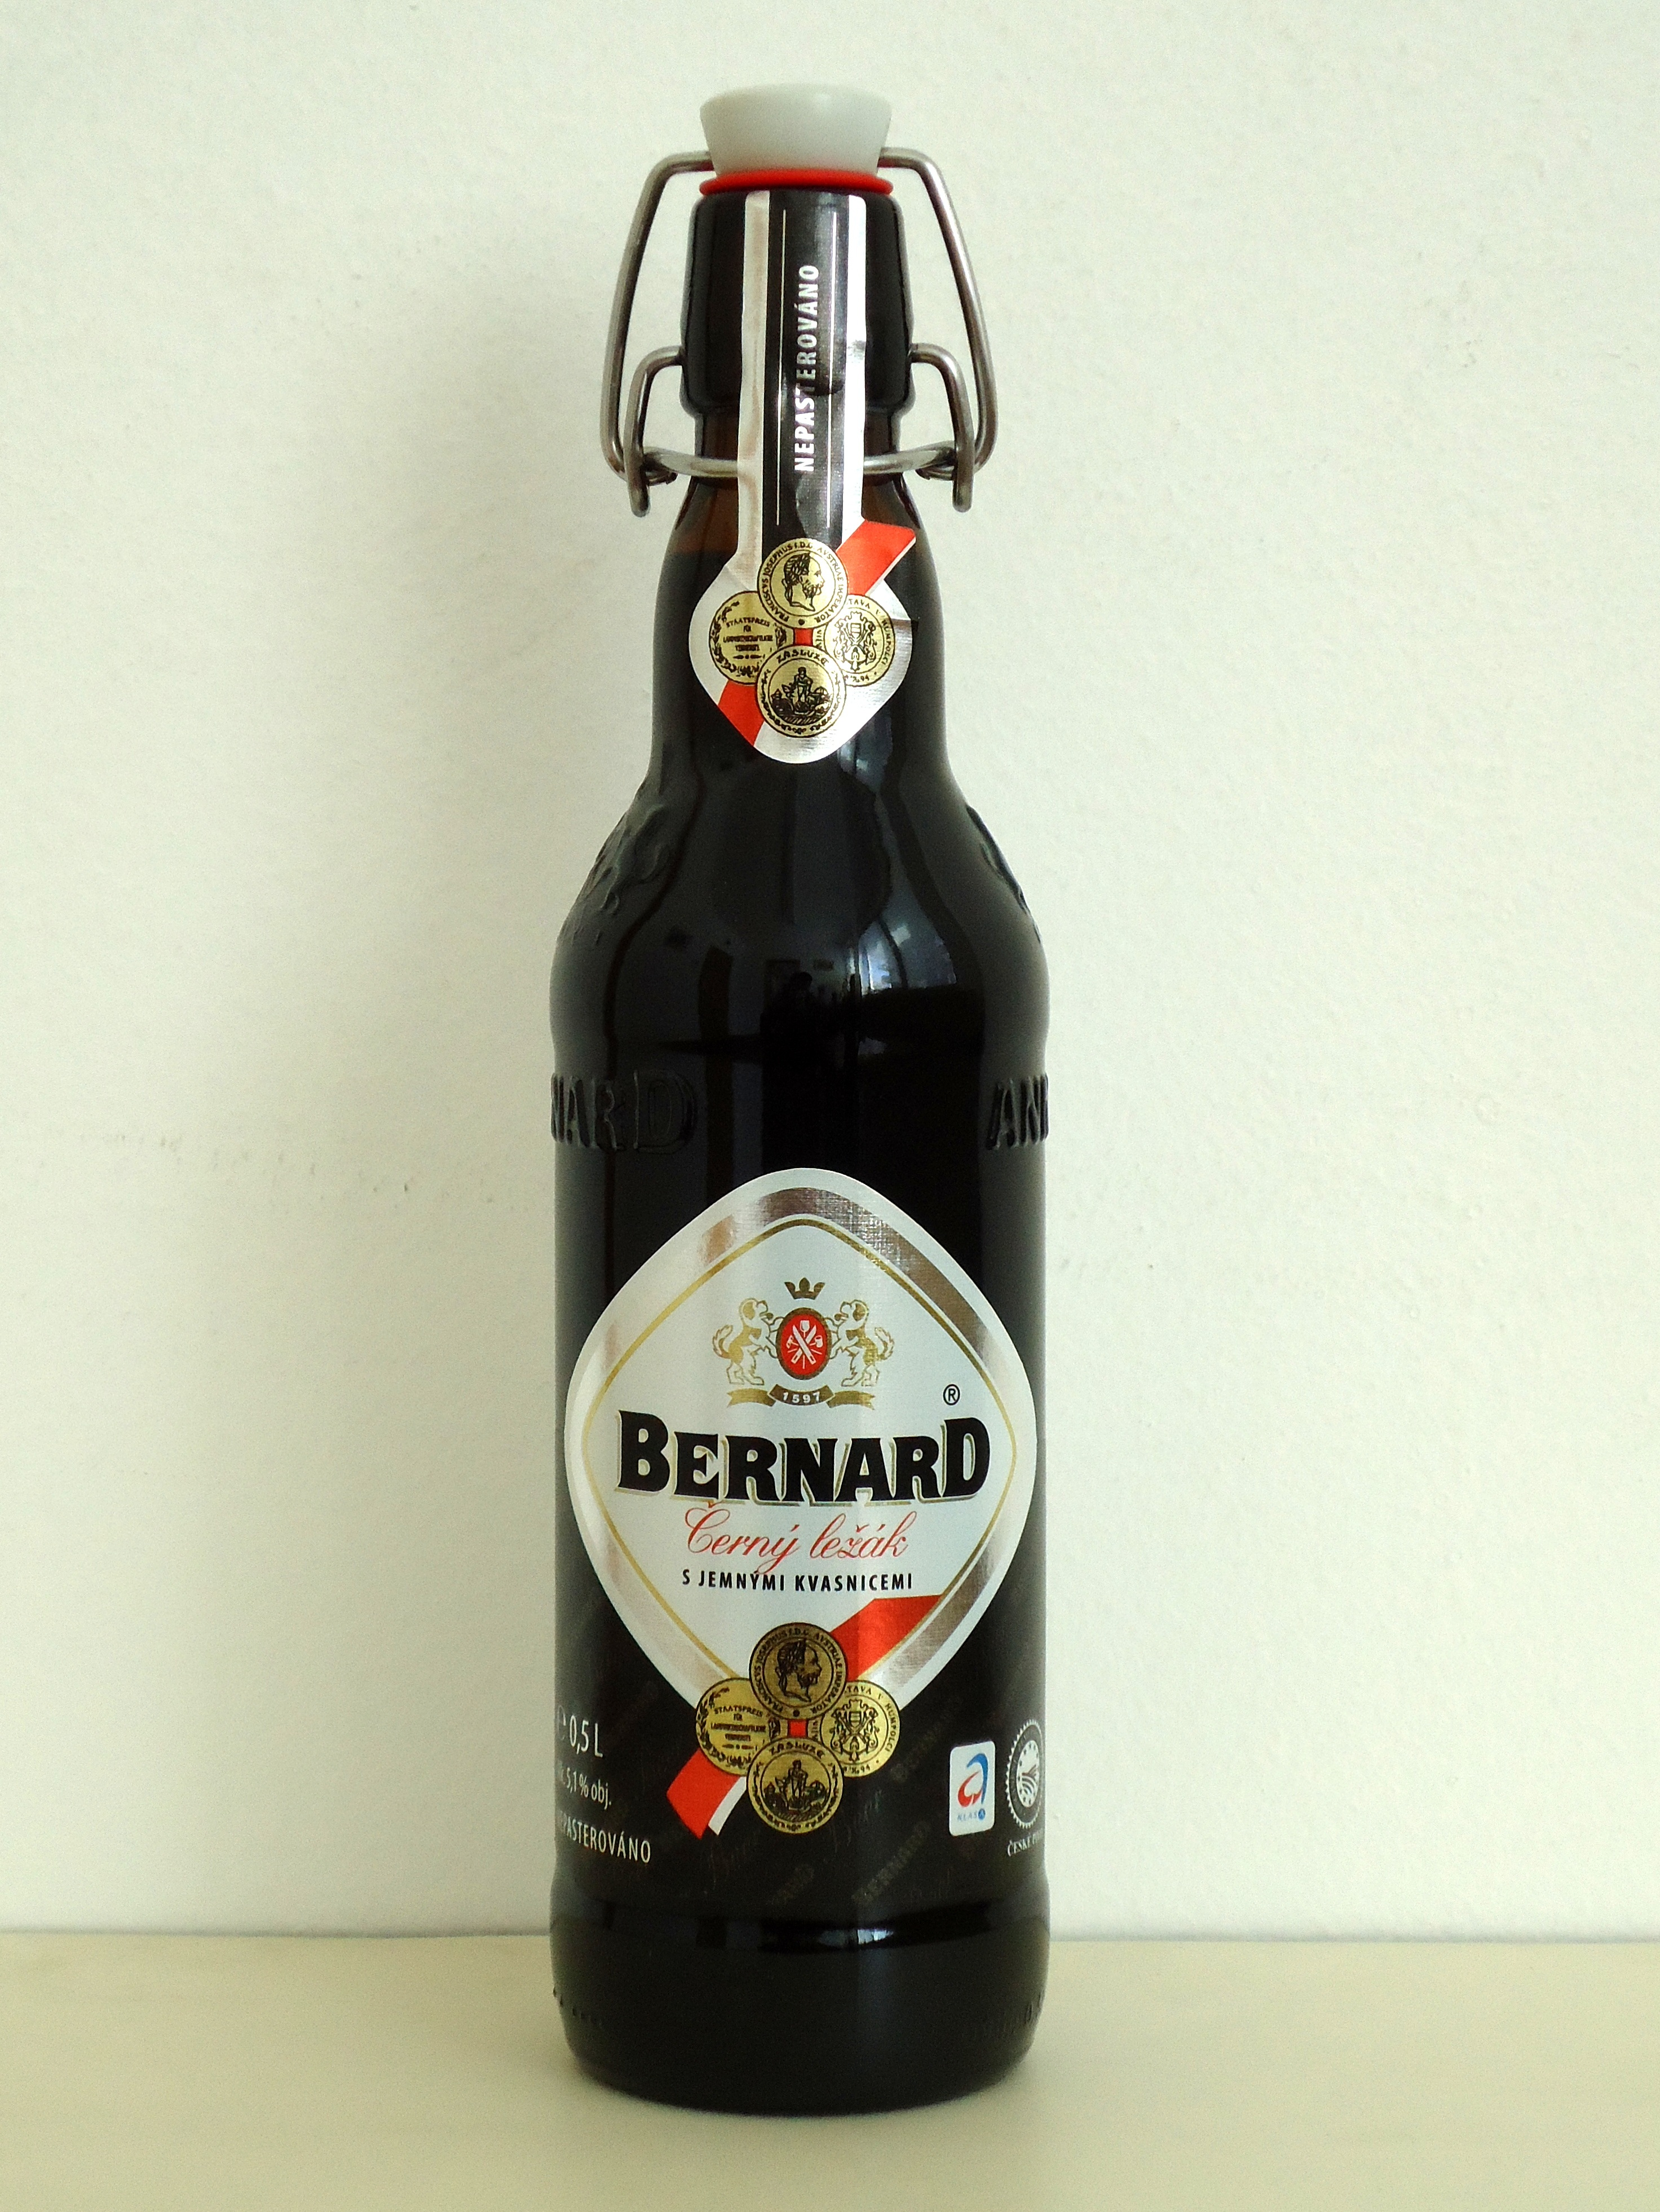glass_bottle: (471, 24, 1123, 2167)
